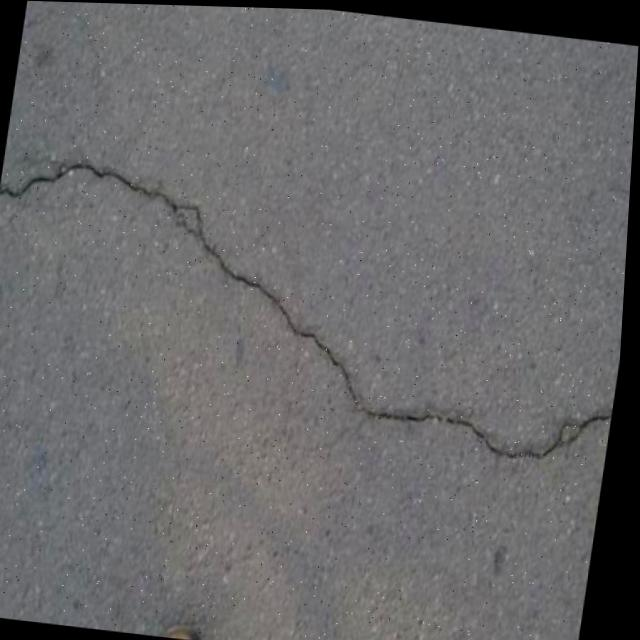Crack: (0, 144, 633, 478)
